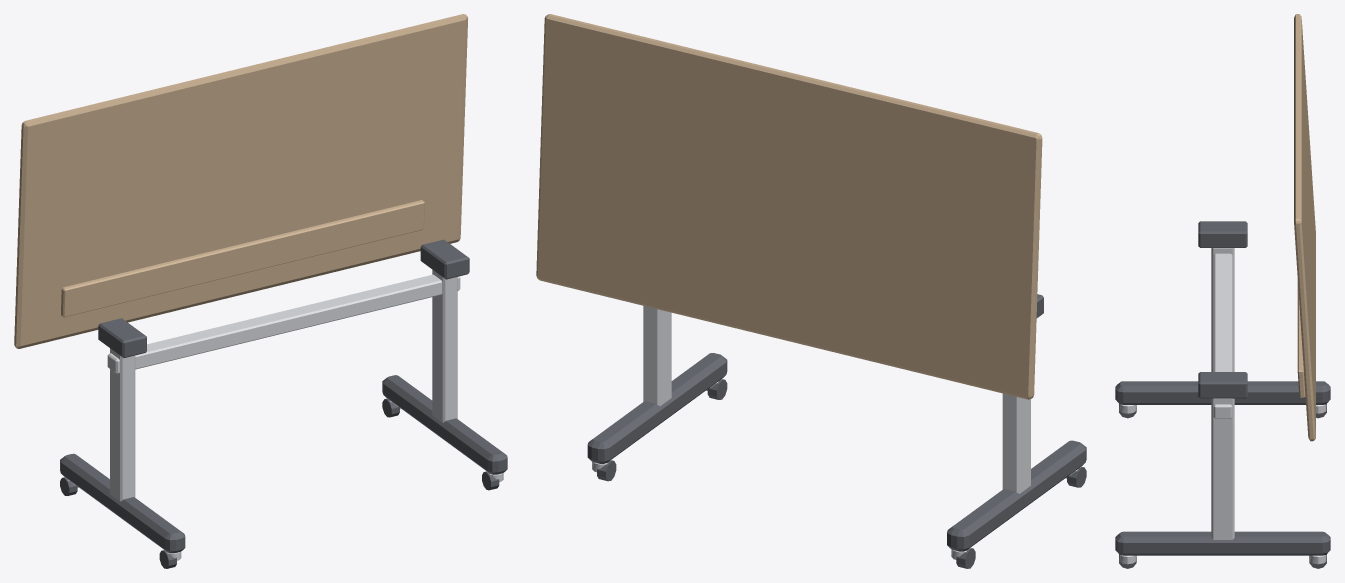
File: downtown-office-interiors-flip-top-table-folded-17cacd6b__17016.glb
3 views of the same model, side by side, from view 1: azimuth 30°, elevation 25°; view 2: azimuth 150°, elevation 25°; view 3: azimuth 270°, elevation 25° (orthographic). The views are drawn at different scales.
Parts seen in each view (by area): view 1: flip-top, flip-top-table-folded; view 2: flip-top, flip-top-table-folded; view 3: flip-top-table-folded, flip-top.
Part boxes in pixels (x1=…): flip-top: x1=14, y1=14, x2=468, y2=348; flip-top-table-folded: x1=60, y1=239, x2=507, y2=568; flip-top: x1=536, y1=14, x2=1042, y2=399; flip-top-table-folded: x1=587, y1=294, x2=1086, y2=568; flip-top-table-folded: x1=1115, y1=221, x2=1330, y2=568; flip-top: x1=1294, y1=14, x2=1315, y2=441.
Size of the model in its own units: 1.6 by 1.36 by 0.7.
